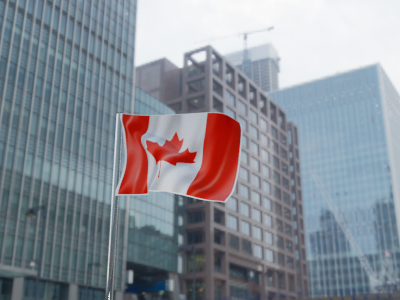Canada flag: (116, 111, 243, 203)
